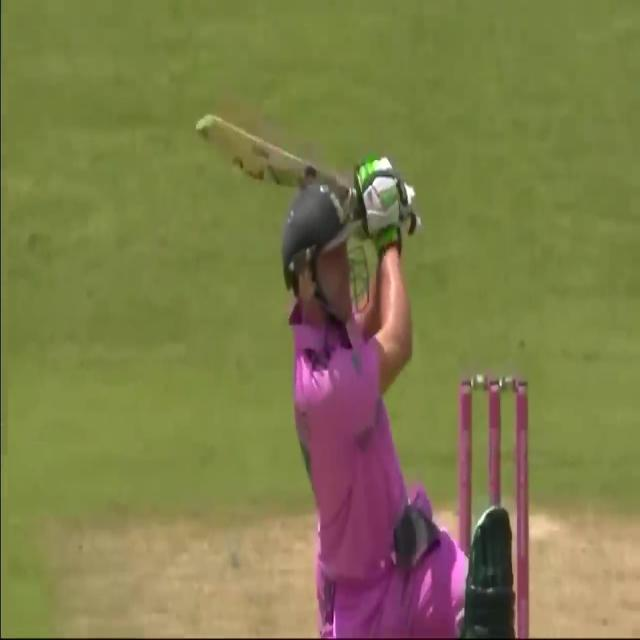Ball: (212, 10, 517, 640)
